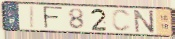2: (91, 8, 109, 32)
8: (67, 8, 86, 31)
C: (111, 9, 133, 33)
F: (42, 5, 65, 30)
I: (29, 5, 36, 30)
N: (133, 9, 157, 34)
